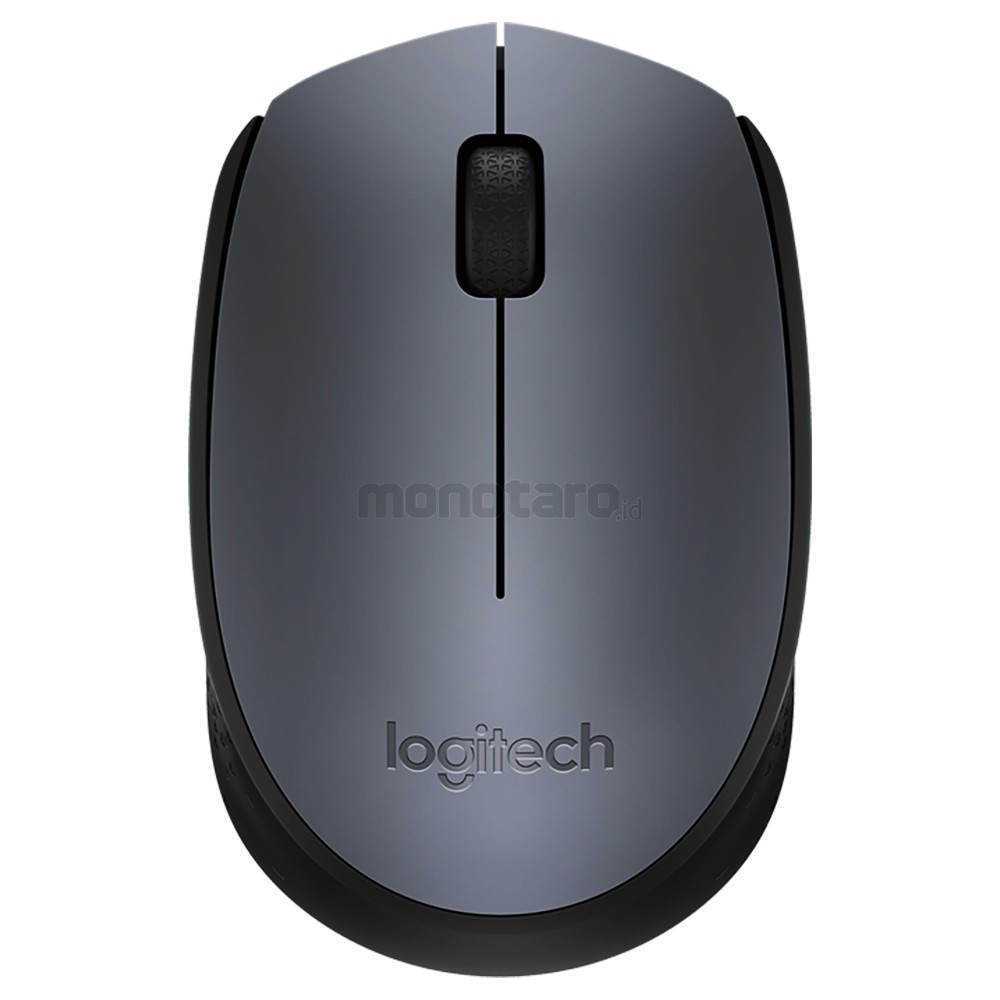Mouse: (166, 9, 828, 997)
